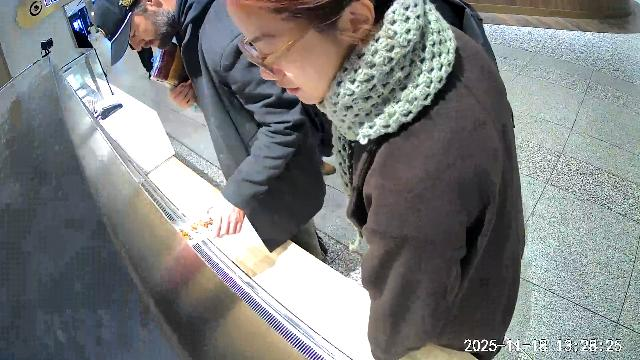sushi-box: (176, 204, 218, 246)
